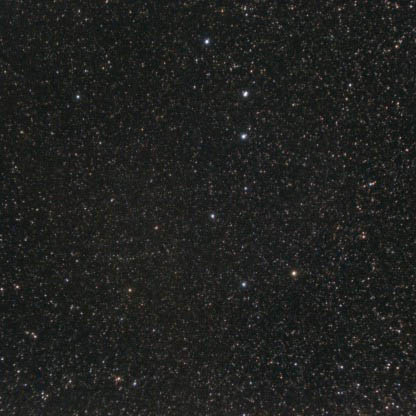Ursa Major: (200, 204, 224, 229), (283, 260, 306, 284), (233, 80, 257, 103), (231, 273, 253, 293), (196, 30, 214, 54), (233, 124, 253, 143), (239, 179, 252, 197)
